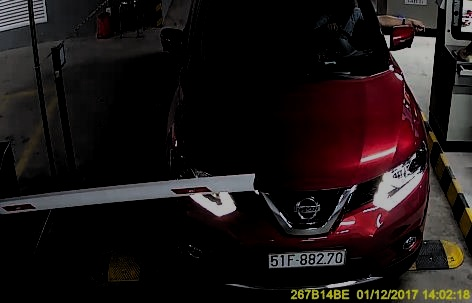plate: (266, 246, 348, 270)
